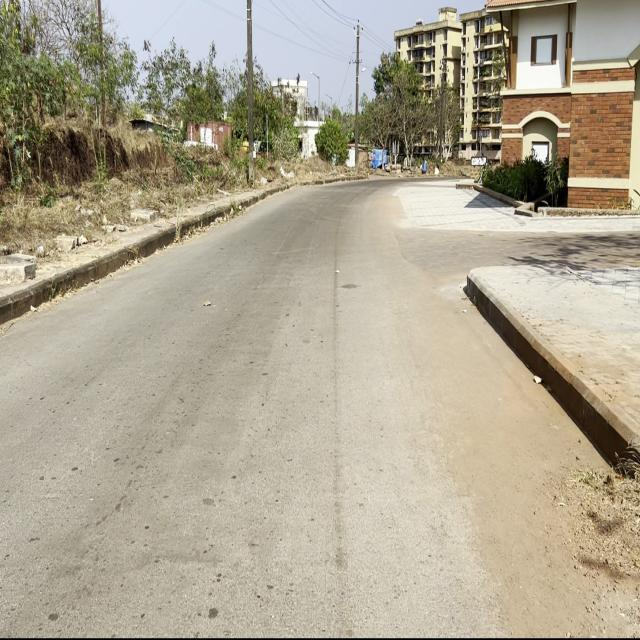Road: (0, 179, 640, 639)
